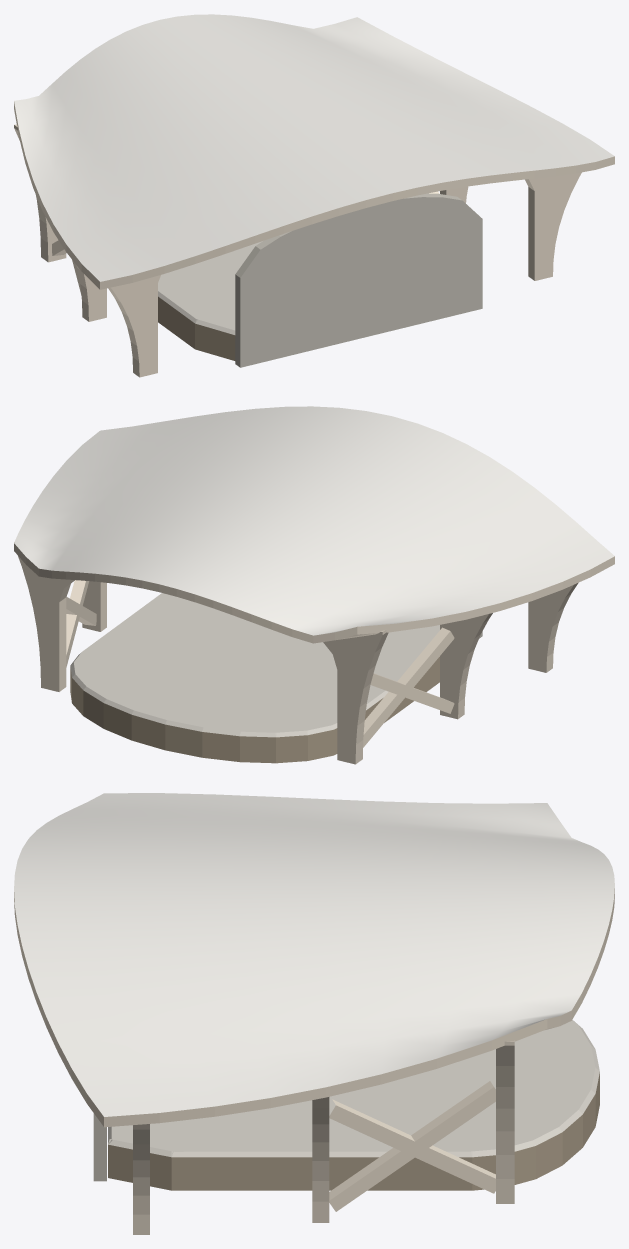
The model's file is freedom-park-bandshell.glb.
The picture shows the model from 3 angles, top to bottom: view 1: azimuth 30°, elevation 25°; view 2: azimuth 150°, elevation 25°; view 3: azimuth 270°, elevation 25°; orthographic projection. The views are drawn at different scales.
Parts seen in each view (by area): view 1: Freedom Park Bandshell; view 2: Freedom Park Bandshell; view 3: Freedom Park Bandshell.
Boxes of the visible parts, left/top/right/bottom form: Freedom Park Bandshell: left=14, top=14, right=614, bottom=377; Freedom Park Bandshell: left=14, top=406, right=614, bottom=764; Freedom Park Bandshell: left=14, top=793, right=614, bottom=1234.
Size of the model in its own units: 20.4 by 6.45 by 16.
